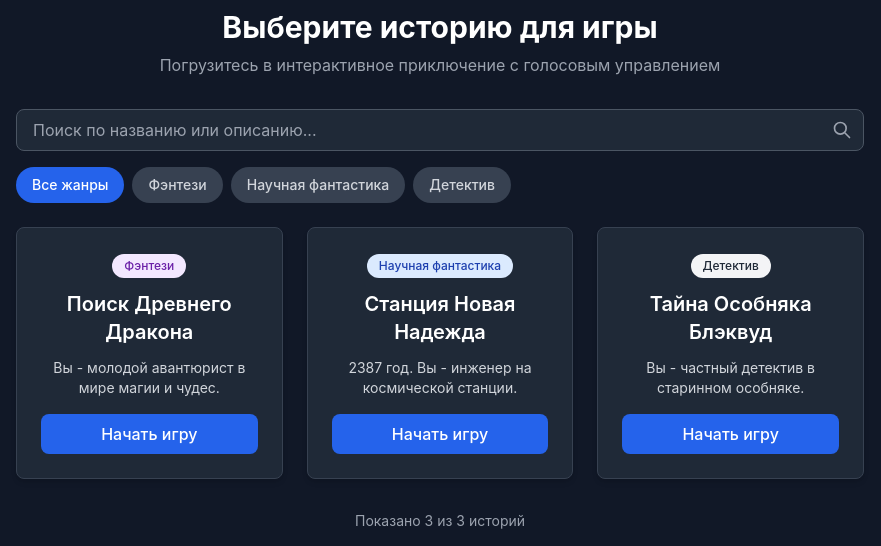
StorySelector › filters stories by genre
Note: Click on fantasy genre filter button (first occurrence)
Click the button "Фэнтези": point(178, 185) [132, 167, 223, 203]
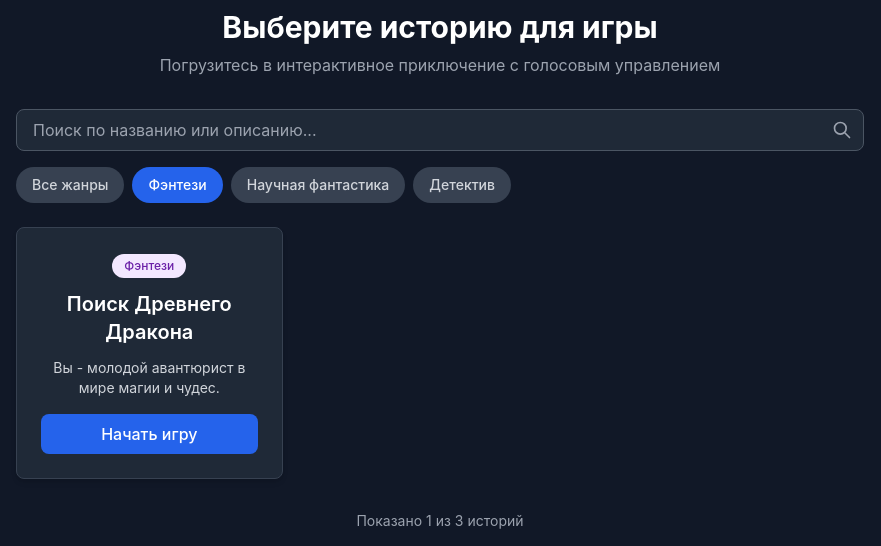
Expected: the heading "Поиск Древнего Дракона" is shown, [67, 292, 232, 344]
Expected: the heading "Станция Новая Надежда" is gone
Expected: the heading "Тайна Особняка Блэквуд" is gone
